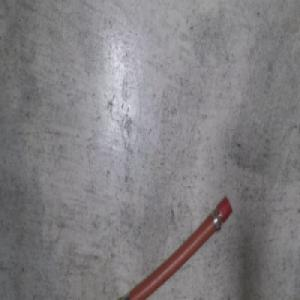Hose: (105, 192, 232, 300)
